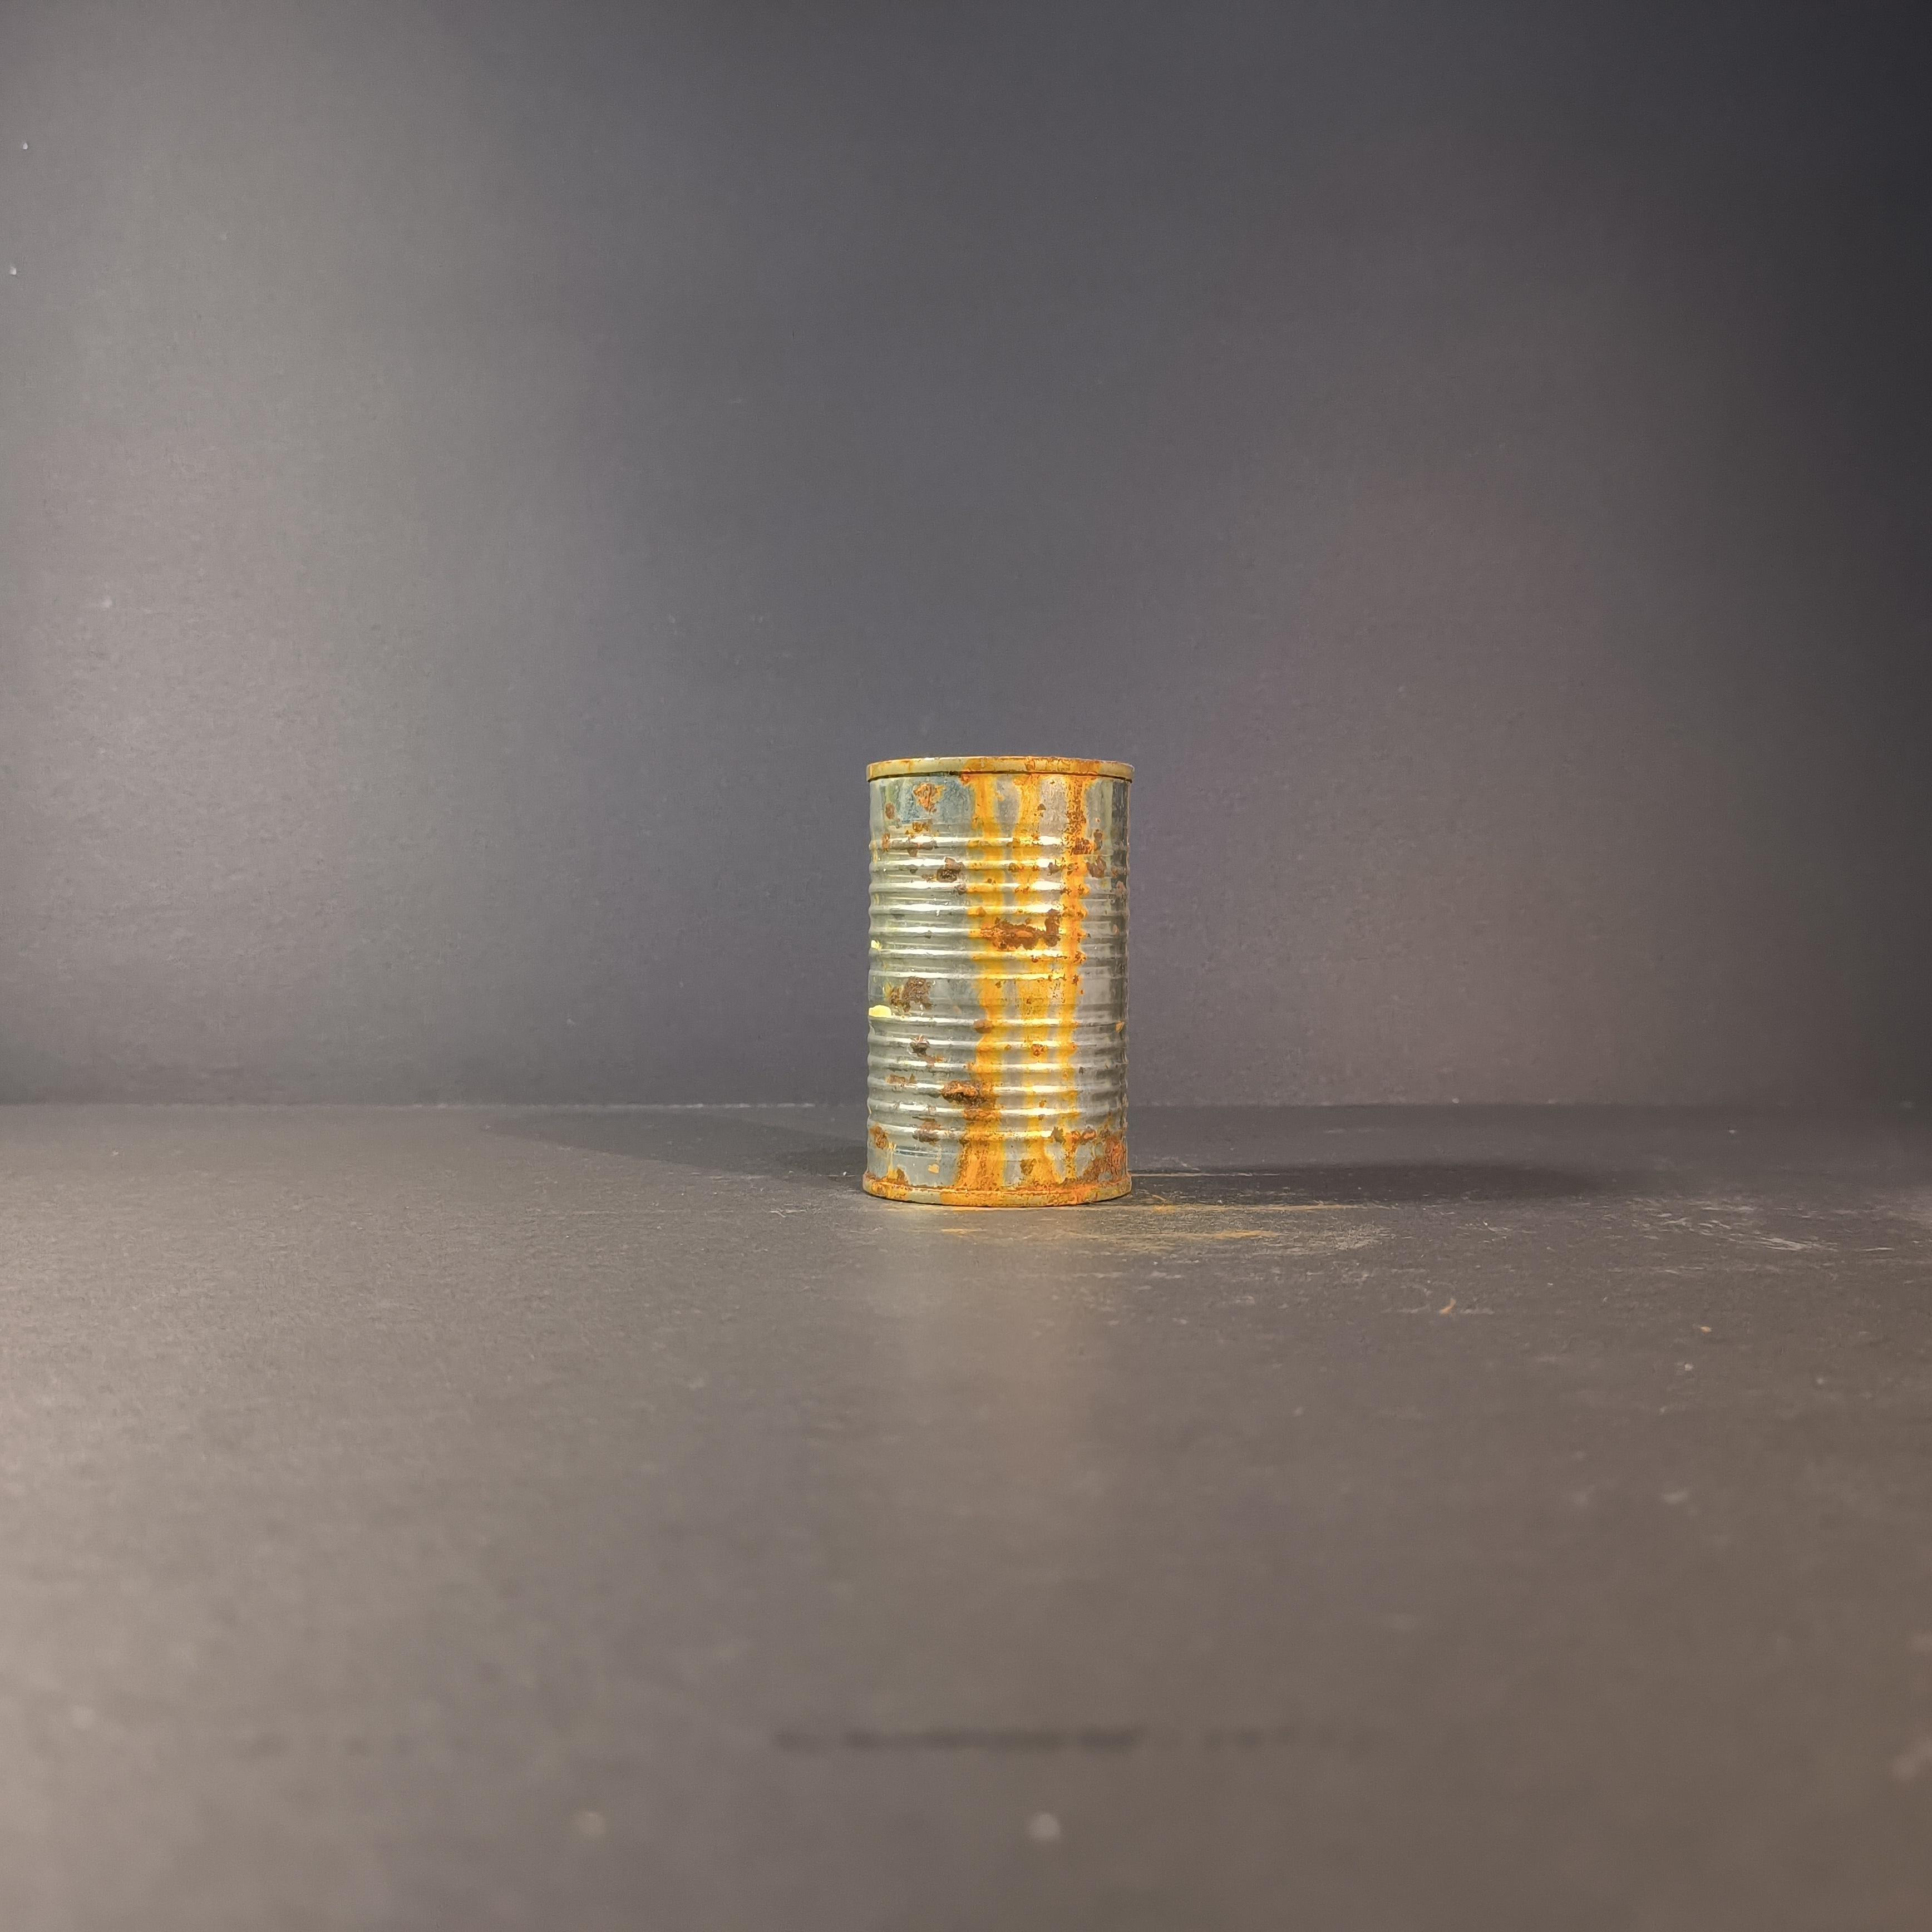Rusted: (840, 734, 1146, 1215)
